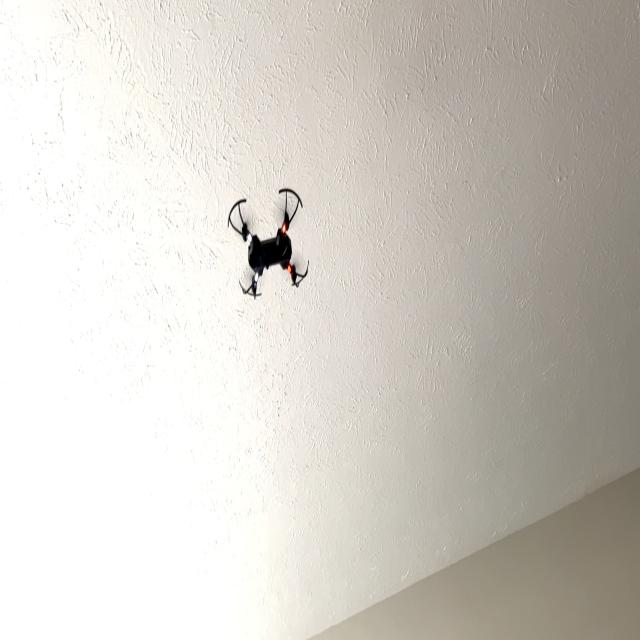drone: (218, 168, 320, 307)
